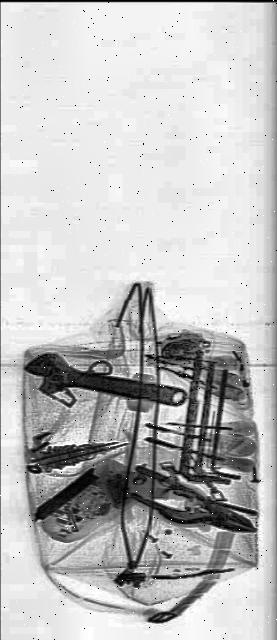Pliers: (158, 479, 258, 553)
Wrench: (23, 346, 188, 424)
